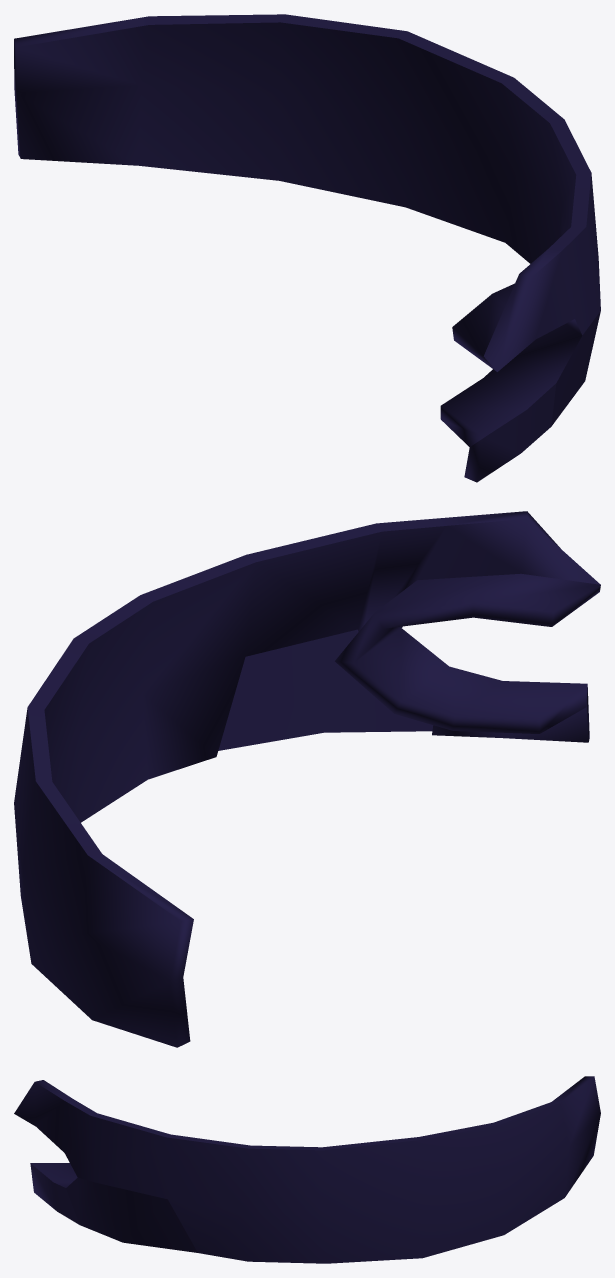
Rendered from Headband2.fbx.
The picture shows the model from 3 angles, top to bottom: view 1: azimuth 30°, elevation 25°; view 2: azimuth 150°, elevation 25°; view 3: azimuth 270°, elevation 25°; orthographic projection. The views are drawn at different scales.
Visible parts, largest first — view 1: Headband; view 2: Headband; view 3: Headband.
Part boxes in pixels (x1,y1,x2,y2): Headband: (14,14,600,482); Headband: (14,511,600,1047); Headband: (14,1076,600,1263).
Size of the model in its own units: 23.8 by 13.83 by 56.98.
